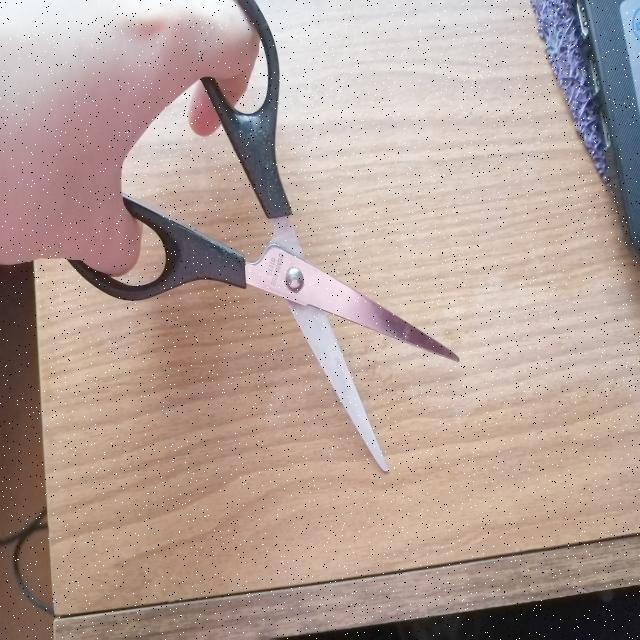scissors: (59, 2, 466, 482)
